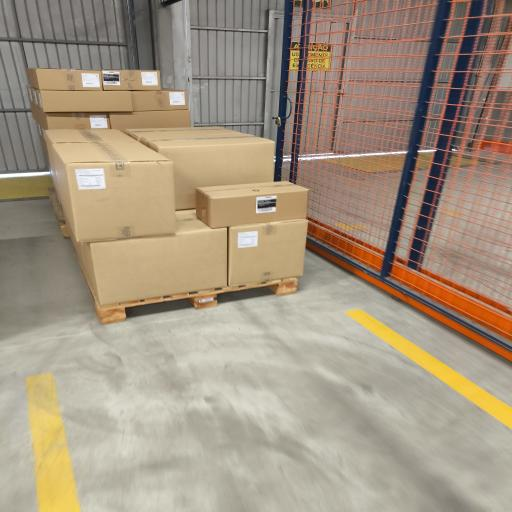pallet: (95, 278, 297, 324), (48, 188, 70, 238)
